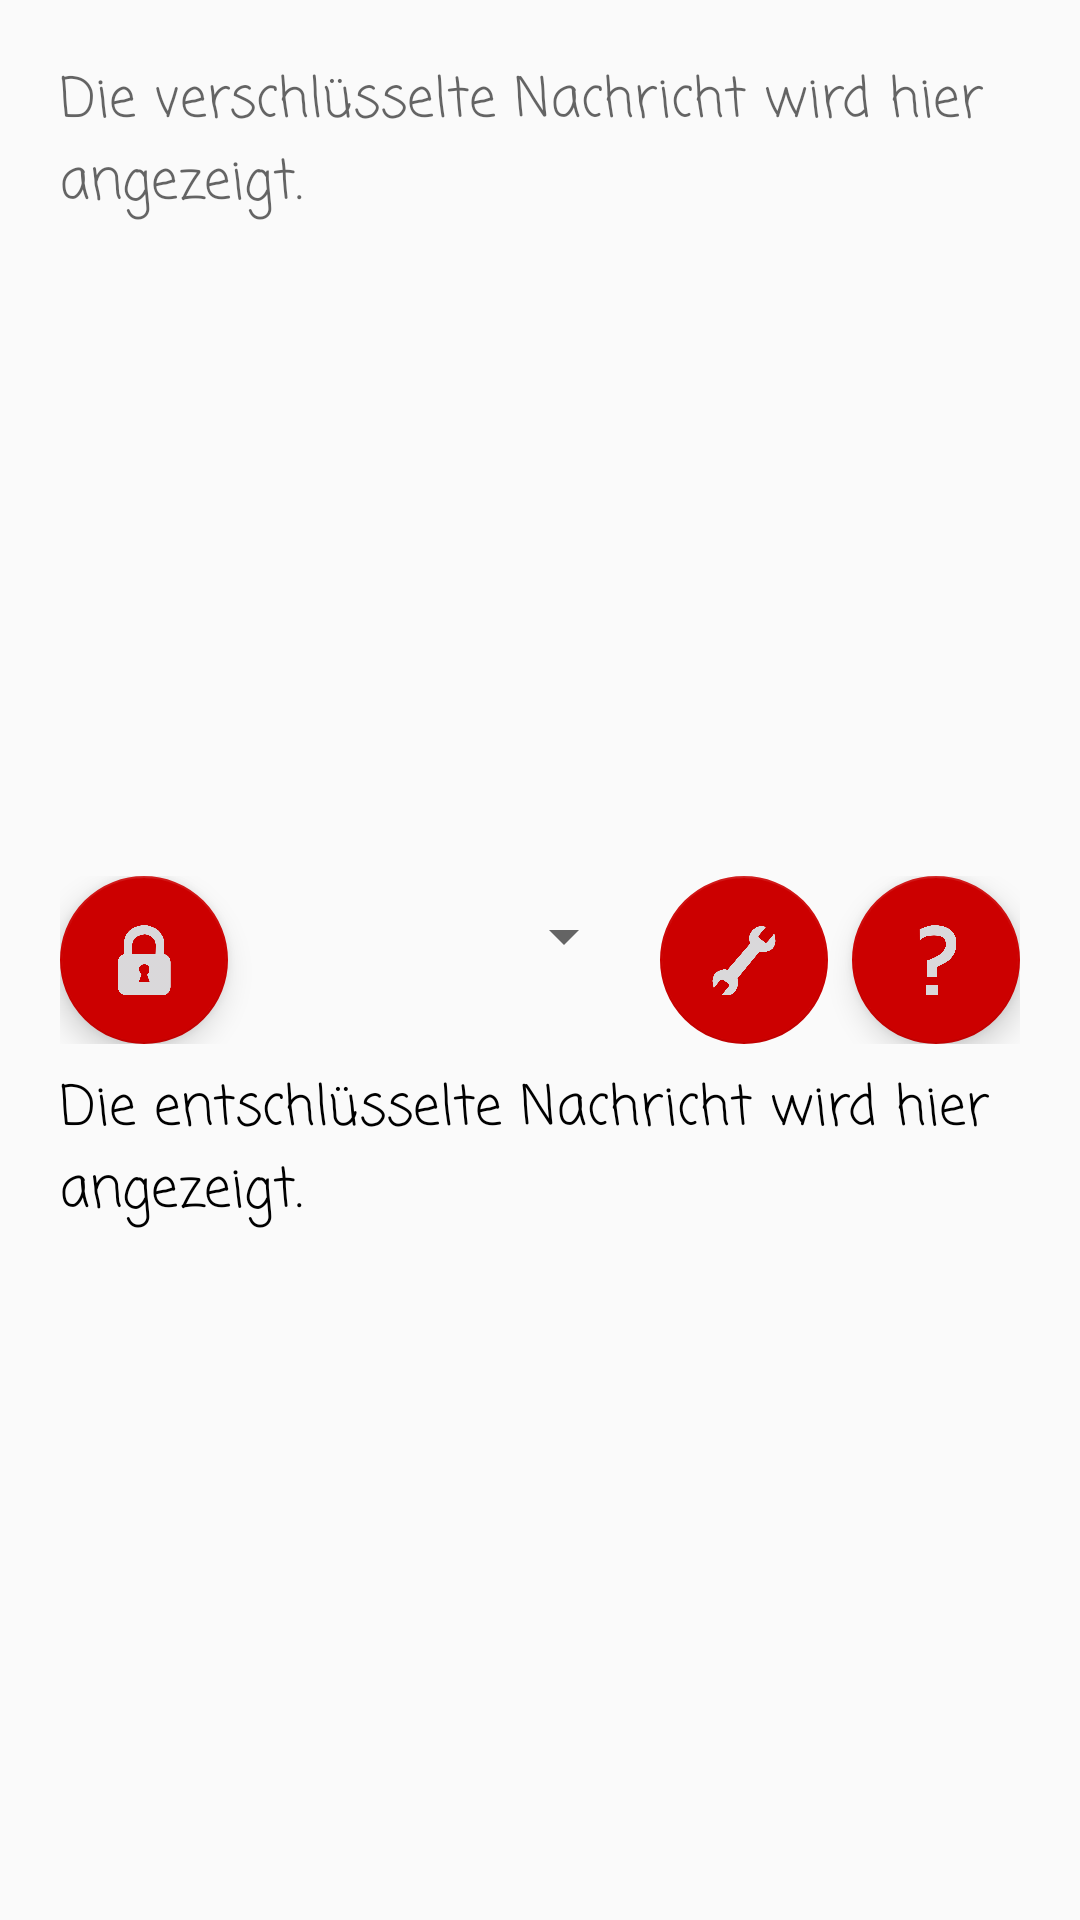

Icons on this 1080×1920 Android screen, each with the point to tap as [x,y]:
help: [936,960]
lock: [144,960]
wrench: [744,960]
